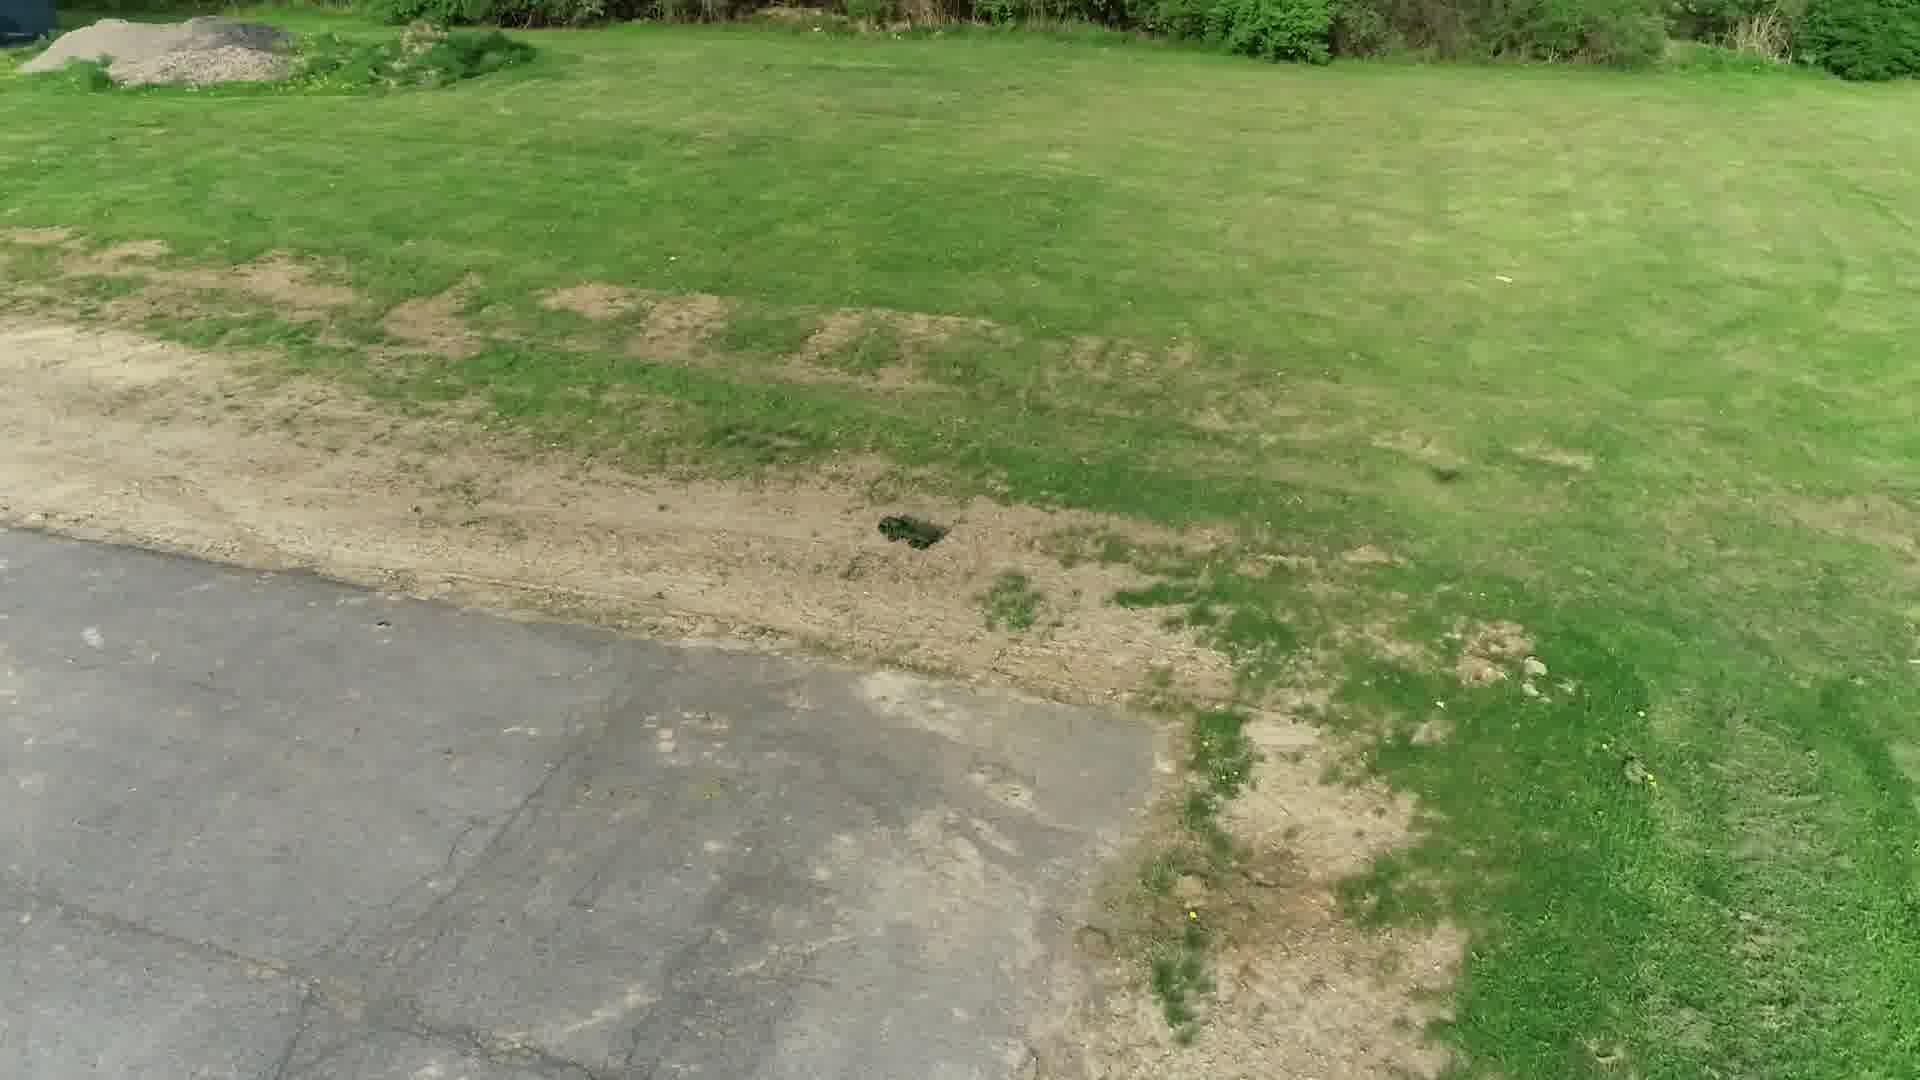transporter9: (870, 513, 952, 553)
